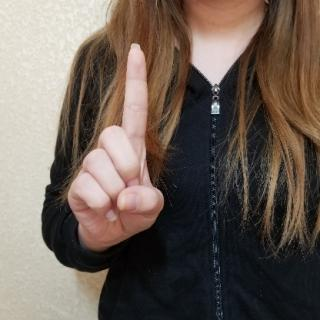BAA: (64, 40, 173, 250)
